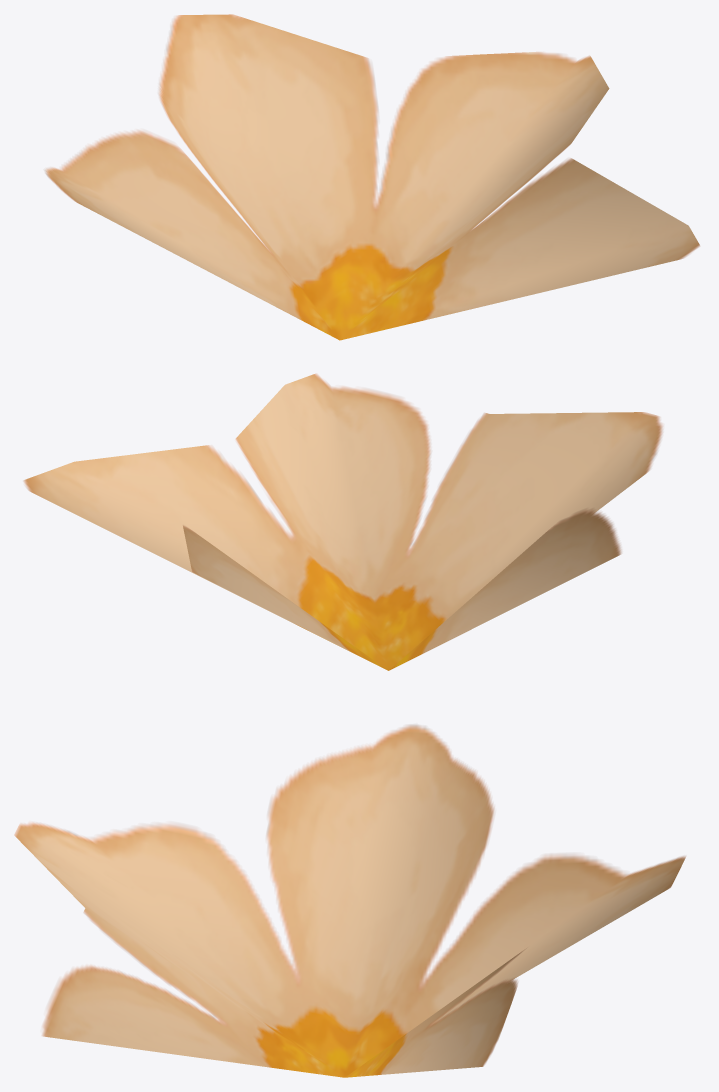
The model's file is flower_petal_5.glb.
3 renders of one model, top to bottom at view 1: azimuth 30°, elevation 25°; view 2: azimuth 150°, elevation 25°; view 3: azimuth 270°, elevation 25°, orthographic. The views are drawn at different scales.
Visible parts, largest first — view 1: Petal_2; view 2: Petal_2; view 3: Petal_2.
Boxes of the visible parts, left/top/right/bottom form: Petal_2: left=45, top=14, right=699, bottom=340; Petal_2: left=23, top=373, right=662, bottom=670; Petal_2: left=14, top=725, right=685, bottom=1077.
Bounding box in the file's own units: 0.6732 × 0.2361 × 0.6311.
1 material, 1 textured.
